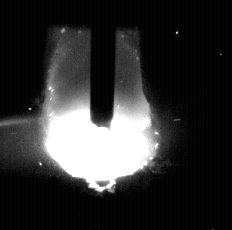arame: (90, 0, 117, 131)
poca: (44, 0, 154, 230)
